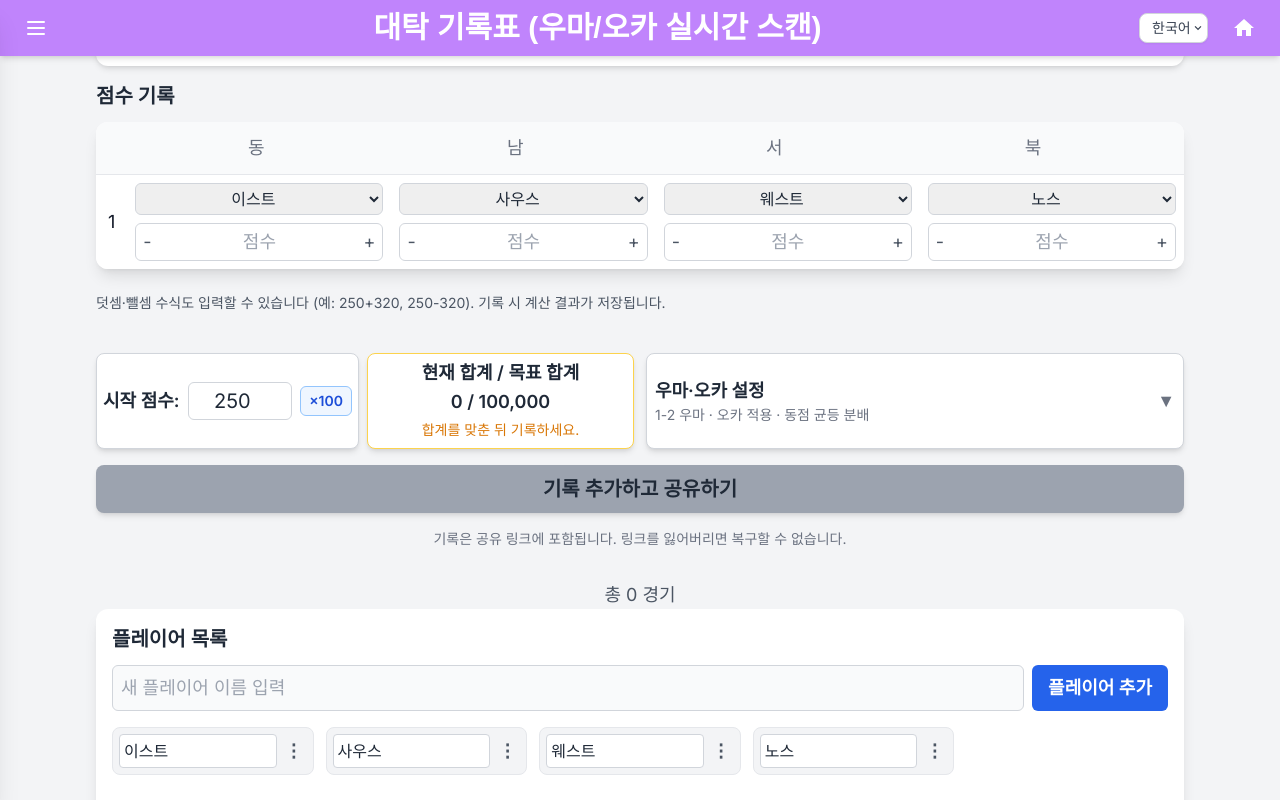
Test: testMode records scores in actual points for starting score 25000
The image size is (1280, 800).
(page scrolled)
Replace the text in the number field labelled "시작 점수" with "25000" at (240, 401), box [188,382,292,420]
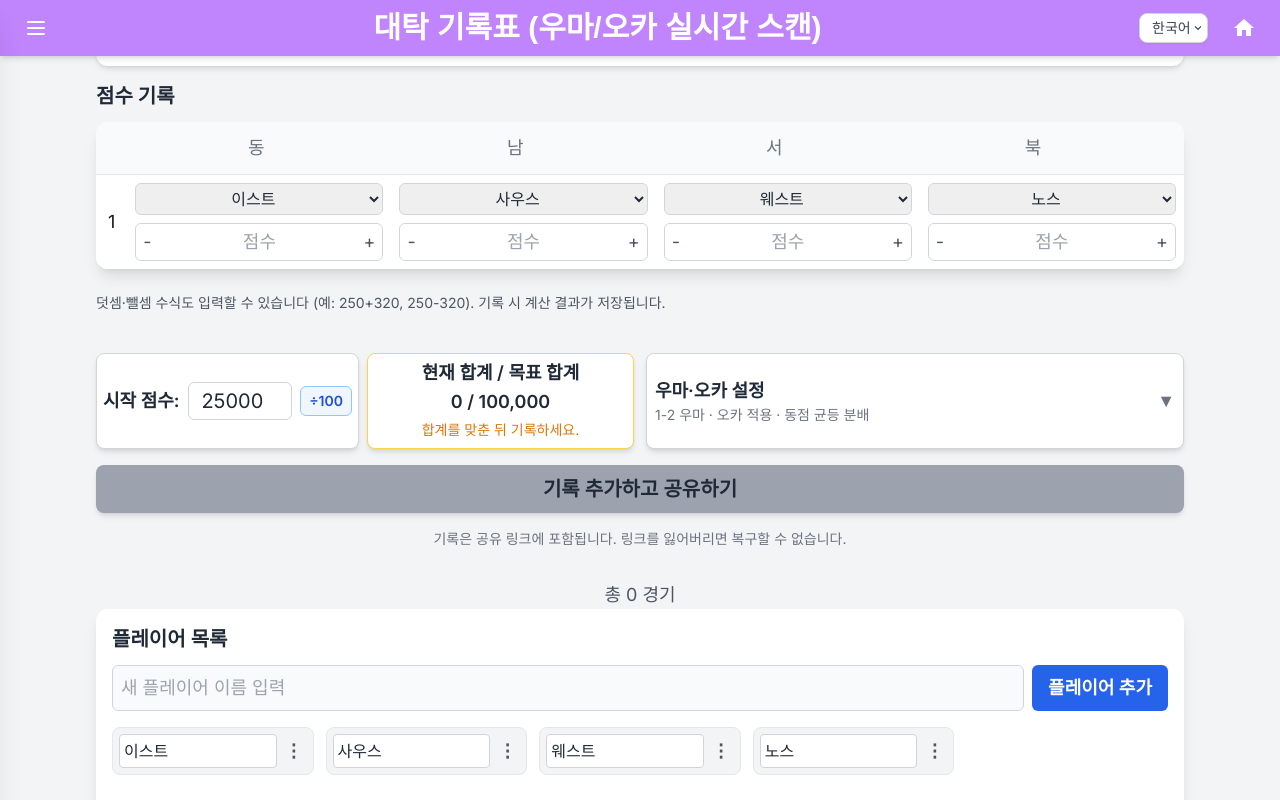
# 수식의 계산 결과를 서버와 로컬 기록에 저장합니다.
Type "25000+32000" into the field named "경기 1 동 점수" at (259, 242), box [135,222,384,260]
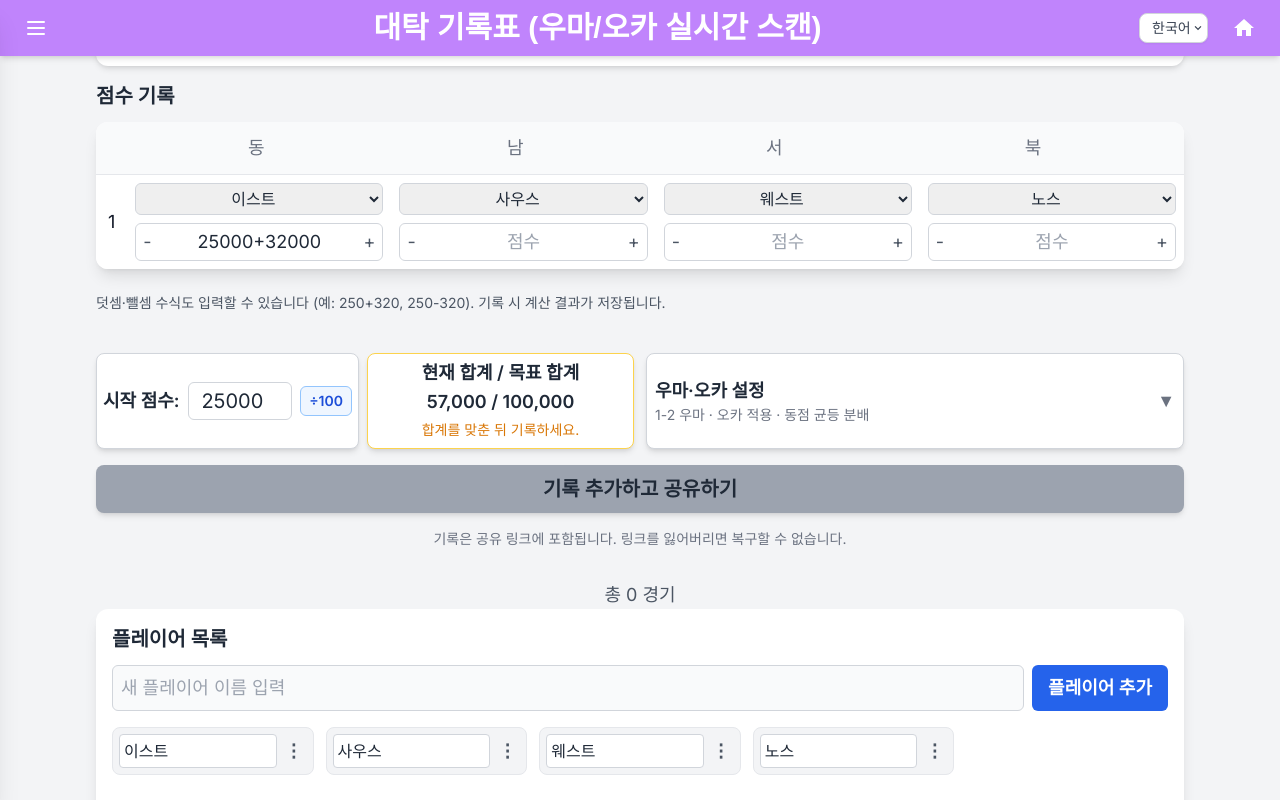
Type "25000-32000" into the field named "경기 1 남 점수" at (524, 242), box [400,222,648,260]
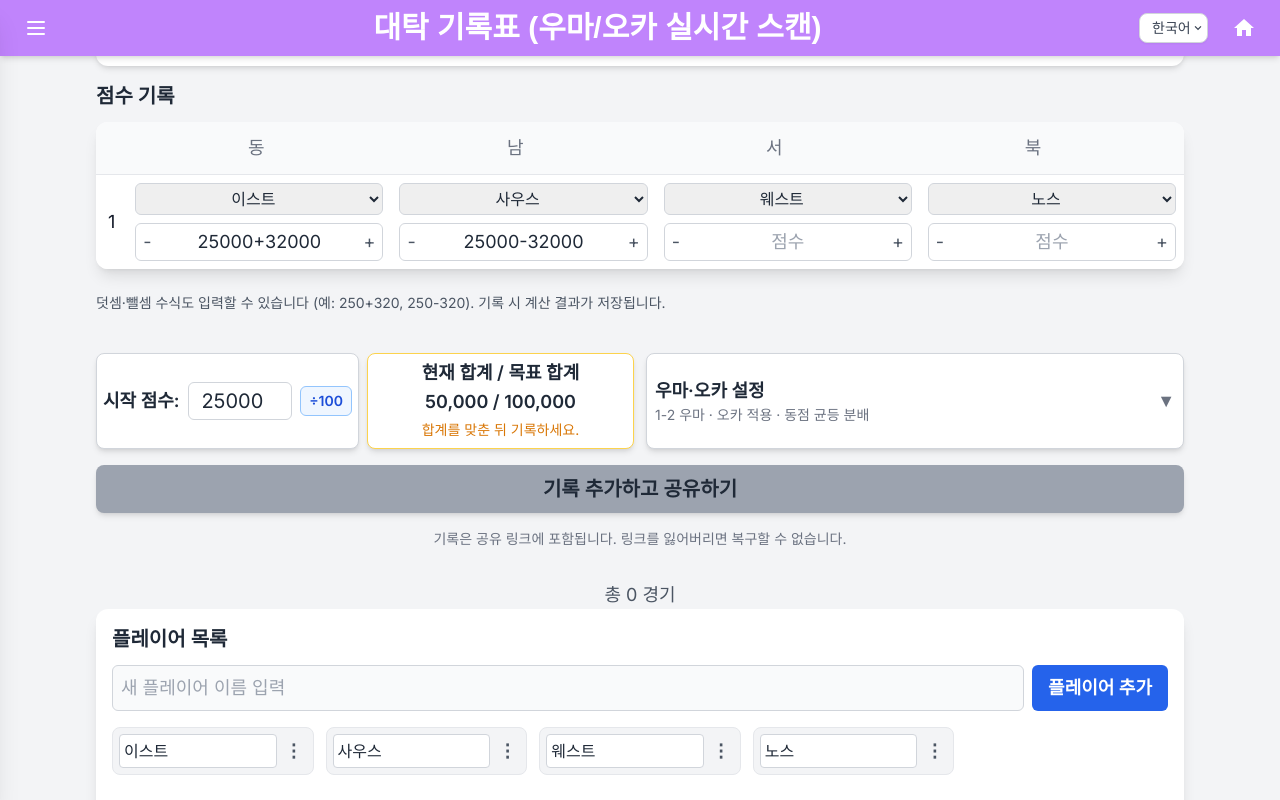
Type "25000" into the field named "경기 1 서 점수" at (788, 242), box [664,222,912,260]
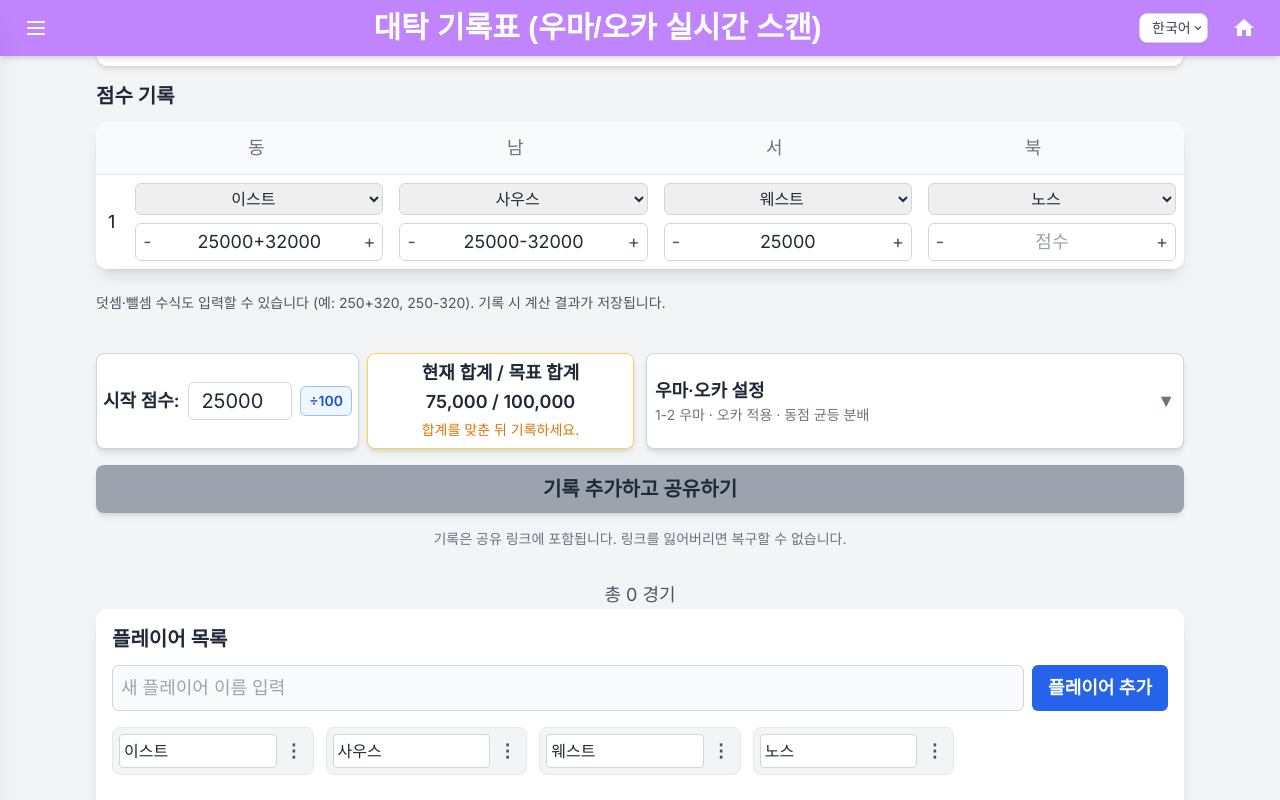
Type "25000" into the field named "경기 1 북 점수" at (1052, 242), box [928,222,1176,260]
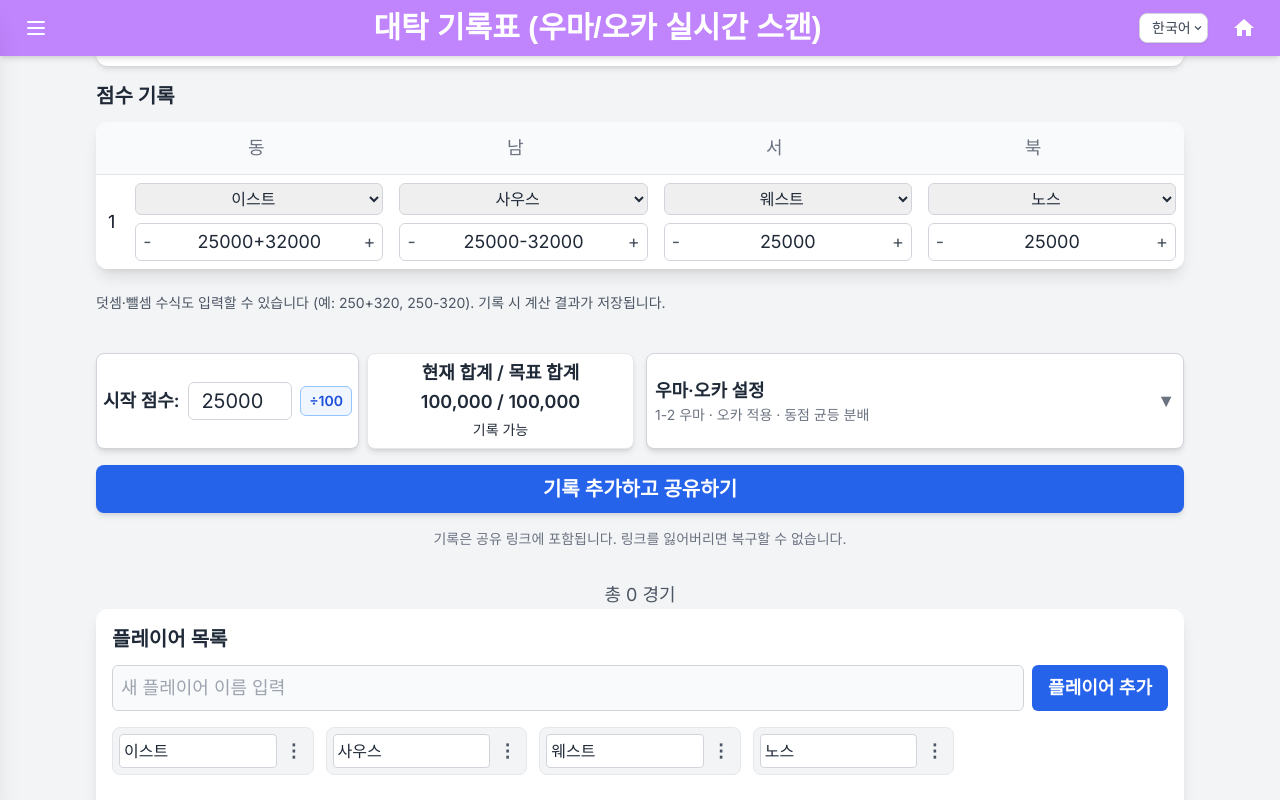
Click the button "기록 추가하고 공유하기" at (640, 489), box [96,465,1184,513]
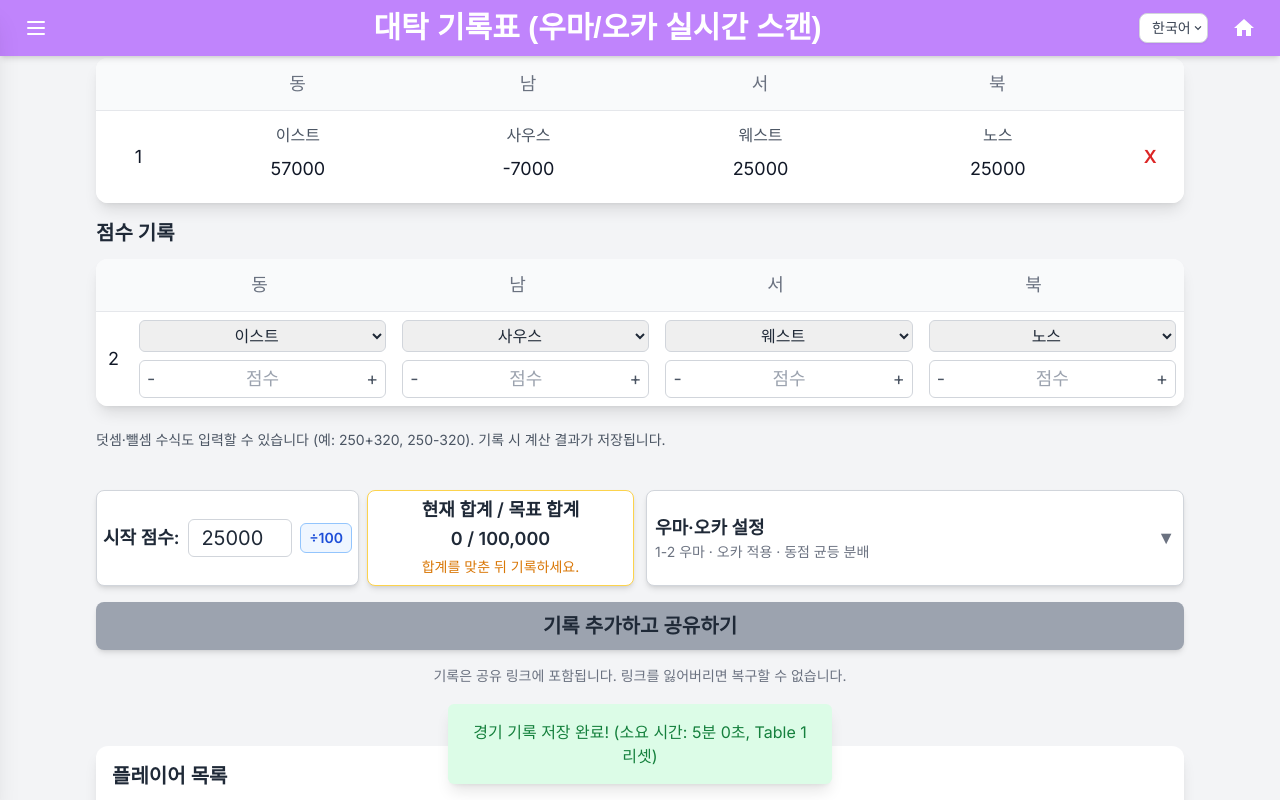
Result: the text "총 1 경기" is shown at [606,718,674,746]
